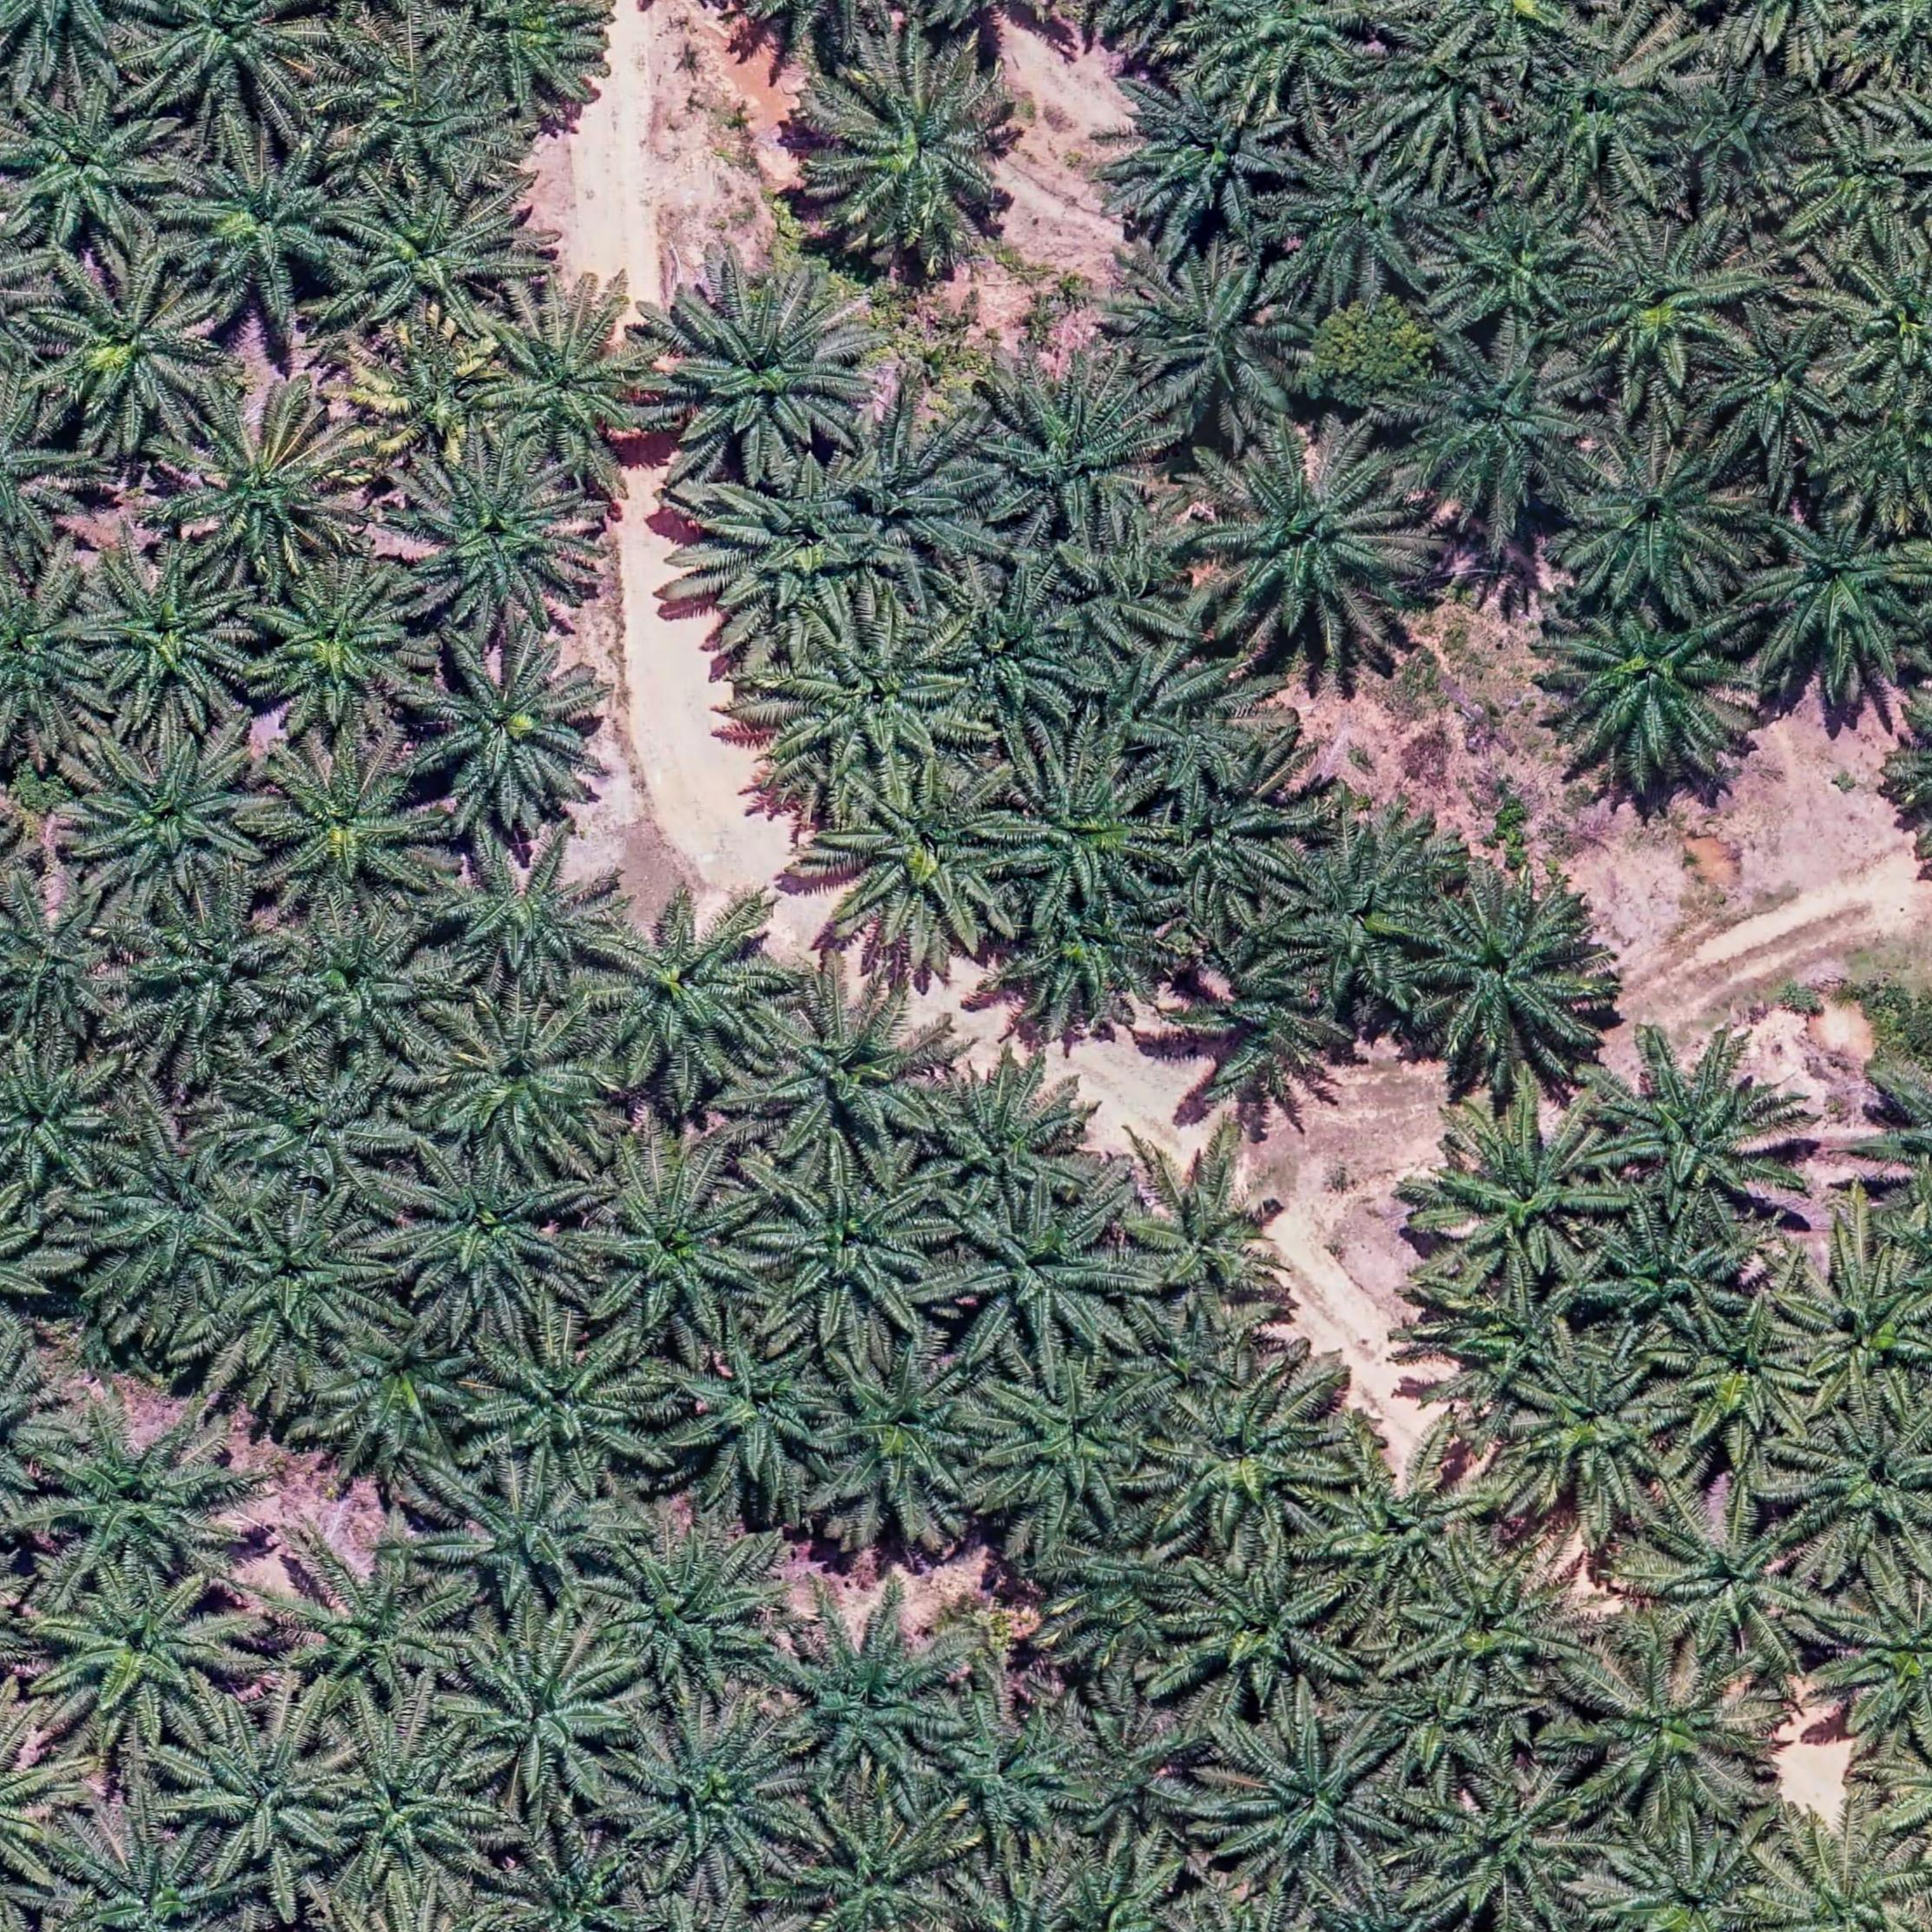palmtree: (1191, 437, 1419, 646), (658, 264, 872, 471), (1587, 1040, 1805, 1242), (819, 766, 1035, 961), (819, 50, 1019, 253), (1415, 1097, 1622, 1293), (161, 393, 366, 587), (34, 1560, 246, 1748), (761, 616, 977, 798), (37, 1399, 239, 1592), (1408, 881, 1606, 1076), (704, 460, 908, 649), (269, 1536, 471, 1725), (973, 364, 1184, 545), (1150, 1362, 1346, 1553), (402, 444, 600, 633), (579, 1154, 775, 1343), (755, 1164, 955, 1348), (591, 895, 786, 1083), (412, 639, 609, 824), (752, 982, 952, 1164), (73, 731, 276, 909), (809, 1339, 1000, 1529), (1629, 1491, 1824, 1677), (1497, 1336, 1693, 1520), (1553, 598, 1752, 778), (1120, 251, 1315, 433), (1212, 1718, 1408, 1898), (1576, 1645, 1775, 1824), (619, 1709, 812, 1891), (396, 1150, 593, 1329), (782, 1606, 968, 1794), (1739, 497, 1925, 683), (476, 299, 665, 481), (1405, 338, 1598, 517), (469, 1320, 665, 1495), (1555, 439, 1753, 612), (978, 1353, 1169, 1532), (35, 257, 223, 437), (591, 1527, 784, 1702), (180, 134, 373, 308), (663, 1322, 849, 1500), (451, 1628, 639, 1805), (115, 883, 303, 1060), (1276, 833, 1460, 1012), (246, 561, 432, 736), (336, 172, 527, 341), (1412, 1759, 1605, 1927), (1307, 1437, 1500, 1605), (322, 1727, 504, 1902), (1568, 219, 1753, 391), (255, 743, 442, 913), (209, 1200, 398, 1368), (824, 396, 993, 586), (87, 1122, 264, 1300), (428, 1001, 616, 1169), (78, 548, 257, 724), (954, 1200, 1145, 1362), (311, 1311, 494, 1481), (177, 1709, 359, 1877), (1113, 76, 1300, 239), (435, 839, 625, 1000), (1398, 1543, 1591, 1700), (1171, 1553, 1361, 1713), (5, 88, 184, 257), (994, 757, 1177, 920), (1122, 1146, 1293, 1316), (1277, 142, 1456, 304), (437, 1463, 621, 1621), (916, 1063, 1097, 1223), (1511, 44, 1691, 200), (271, 913, 449, 1065), (1654, 1300, 1822, 1461), (936, 1693, 1106, 1851), (232, 1062, 412, 1208), (1180, 947, 1343, 1109), (1785, 1249, 1932, 1422), (1141, 770, 1309, 920), (1435, 196, 1603, 345), (1003, 893, 1184, 1031), (336, 41, 504, 182), (0, 870, 138, 1040), (1357, 14, 1511, 166), (1058, 1706, 1212, 1858), (789, 1805, 970, 1932), (1789, 1412, 1932, 1571), (1426, 1279, 1592, 1415), (138, 0, 329, 117), (48, 1822, 249, 1932), (1707, 315, 1861, 458), (943, 587, 1095, 731), (1189, 0, 1384, 108), (1654, 69, 1812, 202), (1592, 1219, 1753, 1348), (1040, 1557, 1205, 1677), (1824, 1568, 1932, 1748), (1592, 1831, 1785, 1932), (359, 336, 510, 465), (437, 0, 610, 111), (0, 568, 108, 745), (1790, 120, 1932, 253), (0, 1046, 127, 1192), (1359, 1668, 1511, 1790), (1826, 235, 1932, 403), (1744, 1838, 1928, 1932), (0, 384, 90, 573), (492, 1836, 658, 1932), (1824, 393, 1932, 520), (1069, 644, 1201, 743), (1046, 1847, 1200, 1932)
